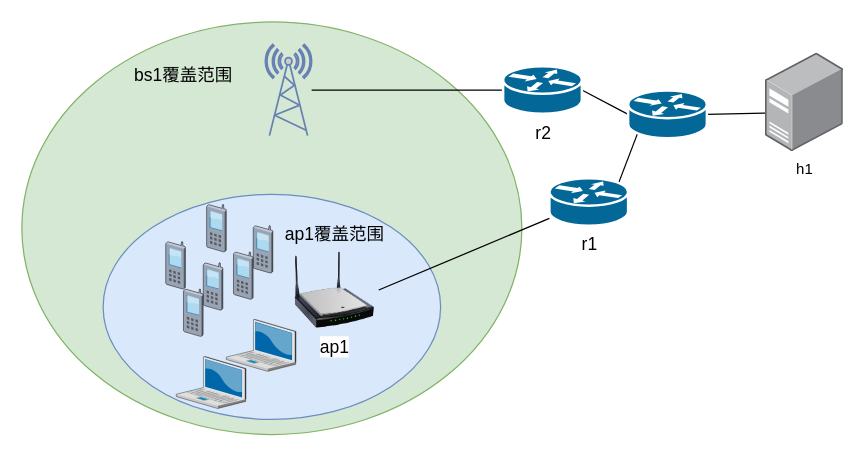
The diagram is 865 pixels wide and 456 high, and some of its shapes have lost their labels. Here are the shapes that lost their labels. From the top down, the centre of each, then its label:
At point (288, 89): "bs1".
At point (667, 114): "r3".
